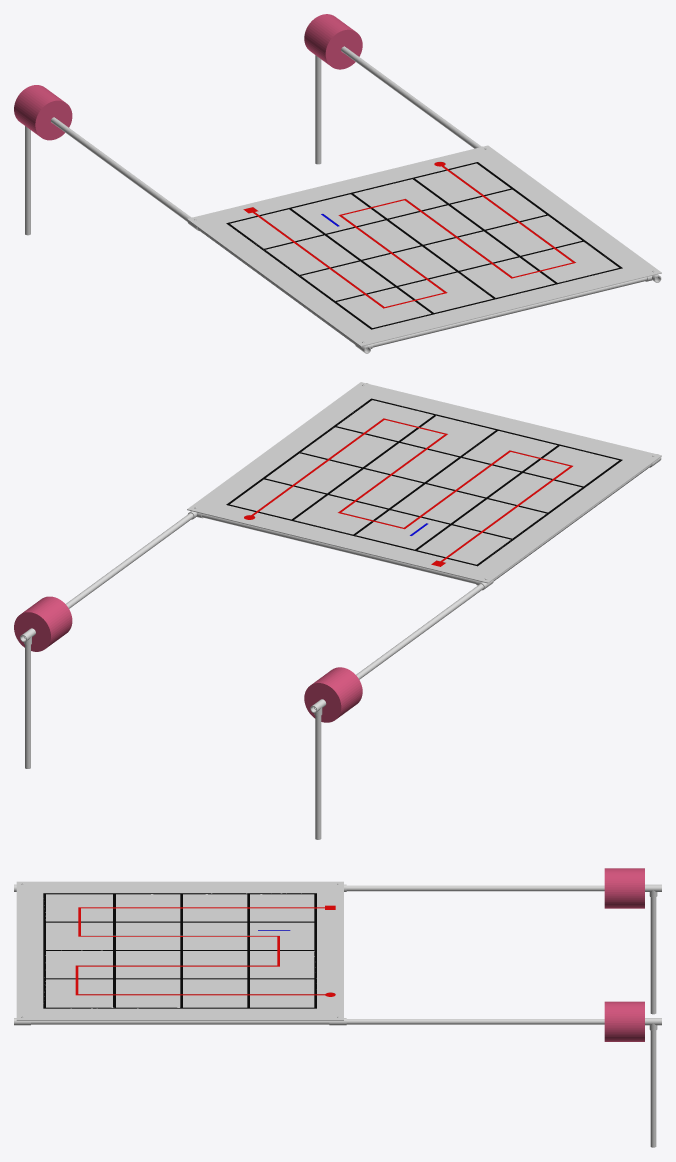
The model's file is dam.dae.
3 views of the same model, one above another, from view 1: azimuth 30°, elevation 25°; view 2: azimuth 150°, elevation 25°; view 3: azimuth 270°, elevation 25° (orthographic). The views are drawn at different scales.
Parts seen in each view (by area): view 1: EXPLORER_FOUNDATION_OF_DAM; view 2: EXPLORER_FOUNDATION_OF_DAM; view 3: EXPLORER_FOUNDATION_OF_DAM.
Boxes of the visible parts, x1,y1,x2,y2 form: EXPLORER_FOUNDATION_OF_DAM: [14, 14, 661, 353]; EXPLORER_FOUNDATION_OF_DAM: [14, 382, 661, 839]; EXPLORER_FOUNDATION_OF_DAM: [14, 868, 661, 1147].
Size of the model in its own units: 1.33 by 2.41 by 0.5877.
